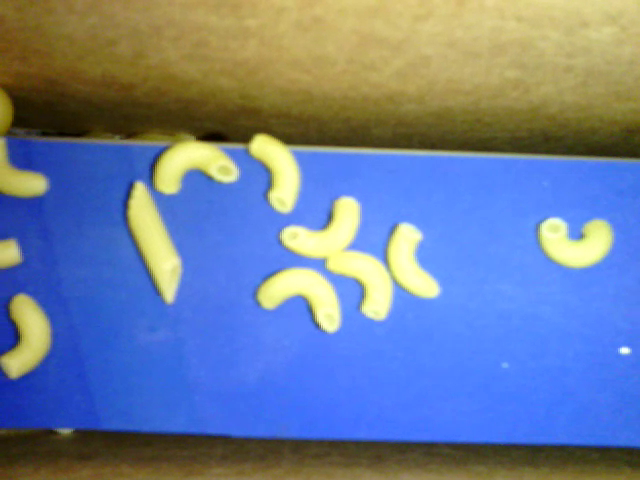elbow: (257, 265, 344, 336), (152, 136, 238, 196), (279, 198, 362, 260), (325, 251, 394, 325), (245, 131, 302, 215), (1, 292, 51, 380), (387, 222, 443, 299), (538, 218, 614, 272), (2, 139, 51, 202)
penne: (122, 180, 183, 308)
